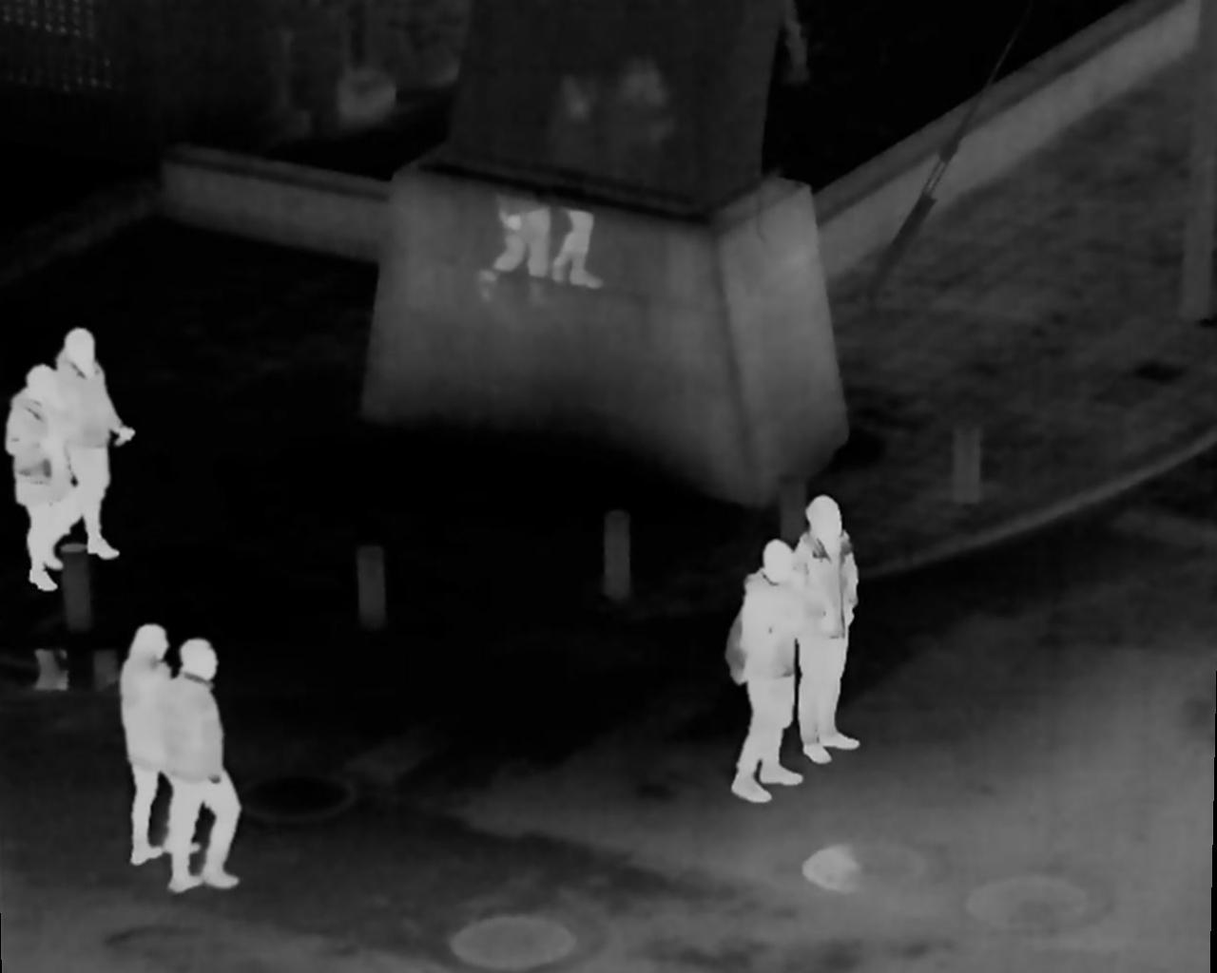person: (795, 484, 879, 759), (730, 544, 798, 817), (164, 639, 237, 887), (27, 328, 107, 545), (113, 620, 182, 865), (34, 362, 56, 587)
